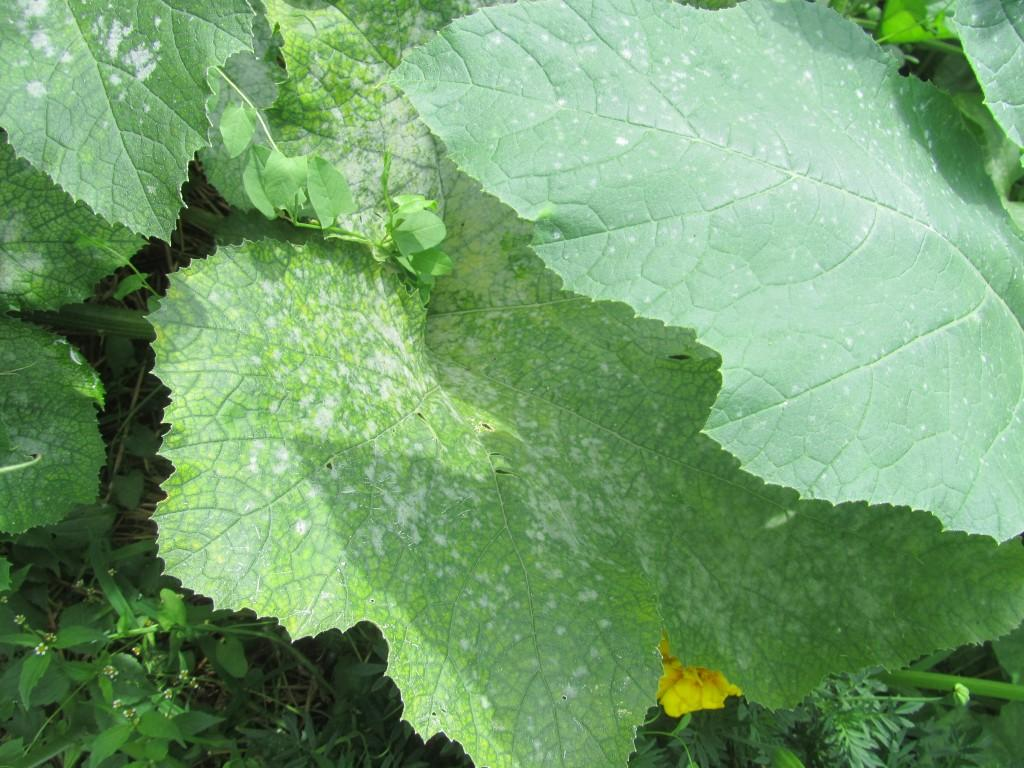Squash Powdery mildew leaf: (376, 1, 1021, 548), (166, 5, 530, 289), (4, 1, 264, 246)
